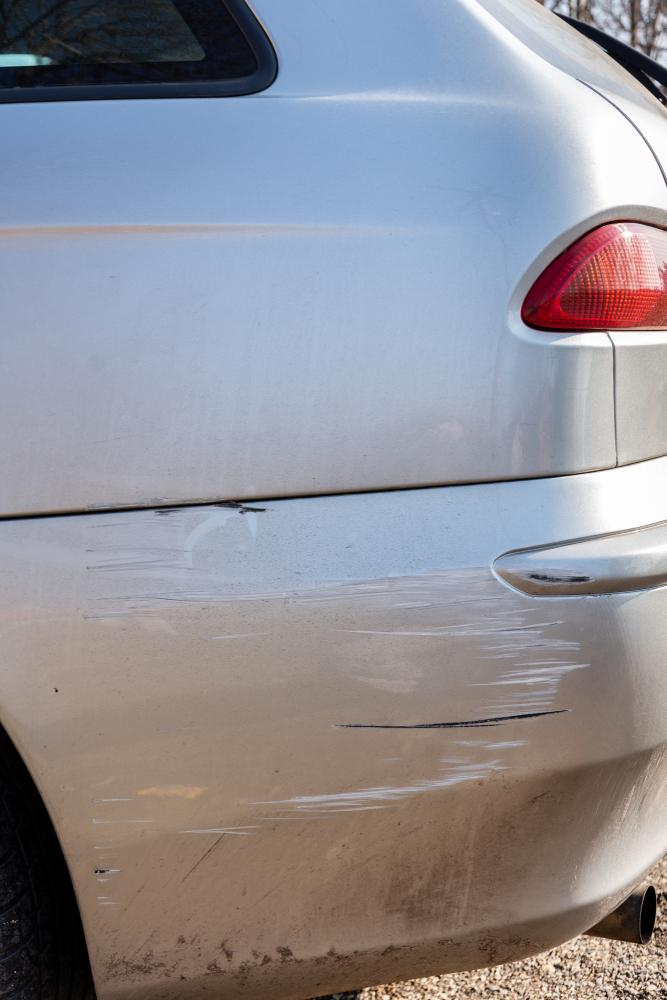scratch: (67, 506, 596, 915)
